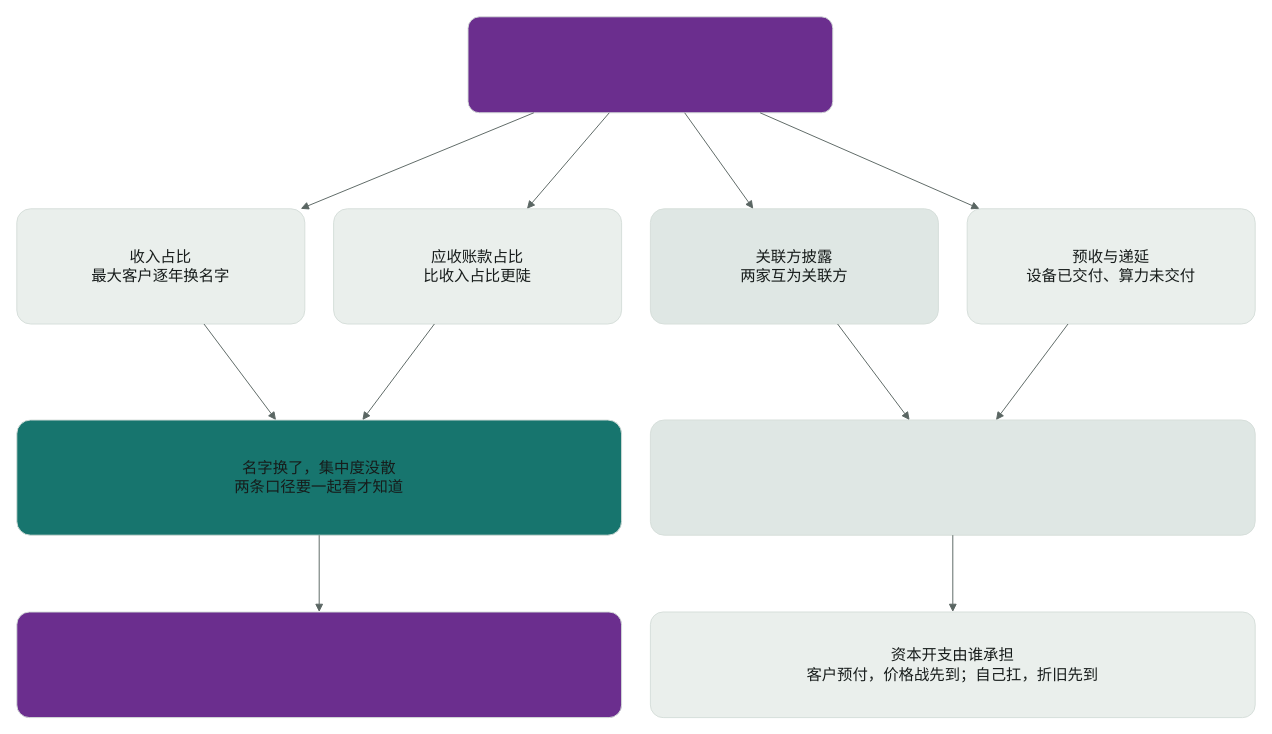
Some shapes in this 1272 by 734 pixel diagram are drawn without their labels. The box of each missing label's shape, as (x1, y1, x2, y2) in pixels:
合同容量不等于合同金额 过手型成本只有初始那一档计入: (16, 611, 622, 718)
同一家客户 收入那一行只是它第一次出现: (467, 16, 833, 113)
给客户的那张认股权 报表上的形状不是负债，是未来收入的抵减: (649, 419, 1255, 535)
